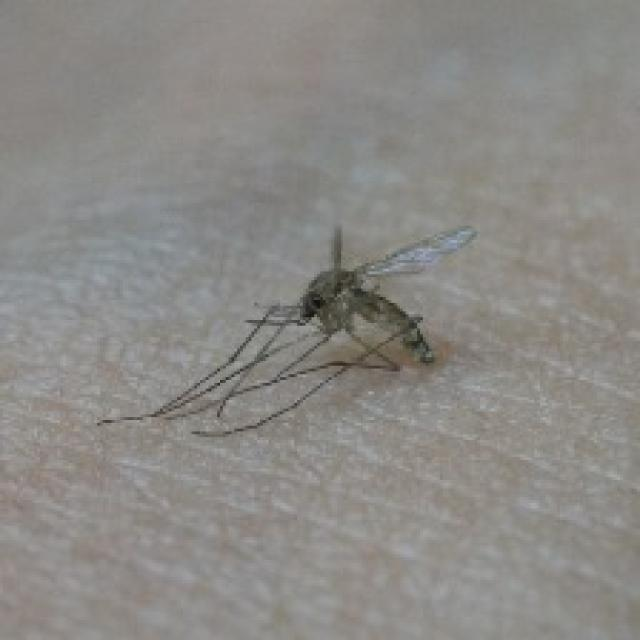culex: (94, 220, 477, 437)
